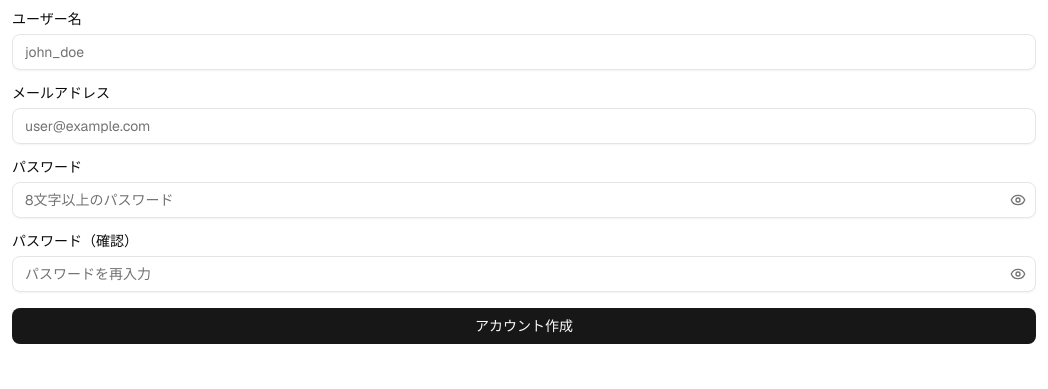
Test case: SignupForm › ユーザー名のバリデーション › ユーザー名が3文字未満の場合、エラーが表示される
Type "ab" into the field labelled "ユーザー名".
click(524, 52); type("ab")  # box top-left (12, 34), bottom-right (1036, 70)
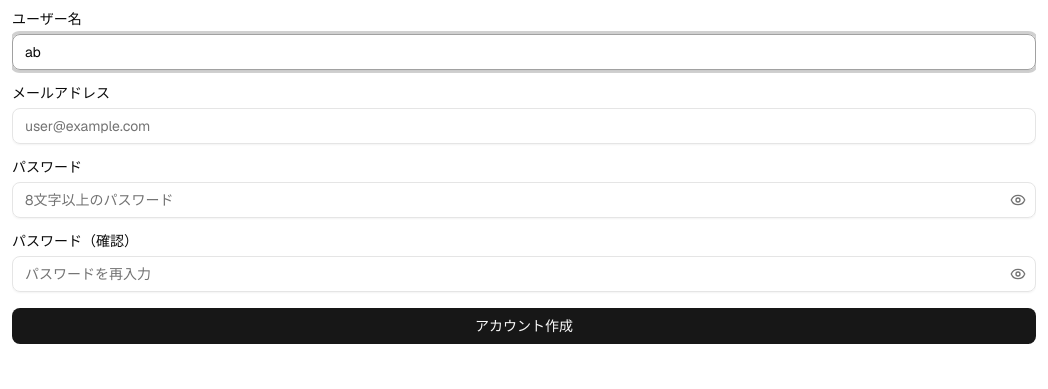
Type "test@example.com" into the field labelled "メールアドレス".
click(524, 126); type("test@example.com")  # box top-left (12, 108), bottom-right (1036, 144)
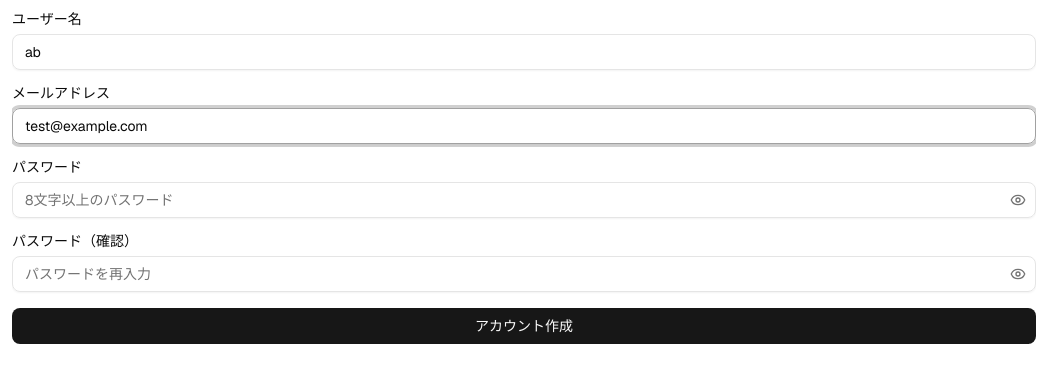
Type "password123" into the password field labelled "パスワード".
click(524, 200); type("password123")  # box top-left (12, 182), bottom-right (1036, 218)
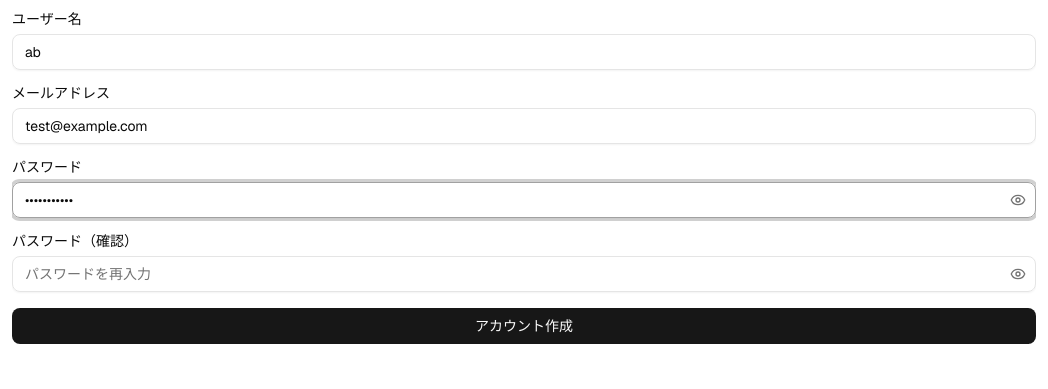
Type "password123" into the password field labelled "パスワード（確認）".
click(524, 274); type("password123")  # box top-left (12, 256), bottom-right (1036, 292)
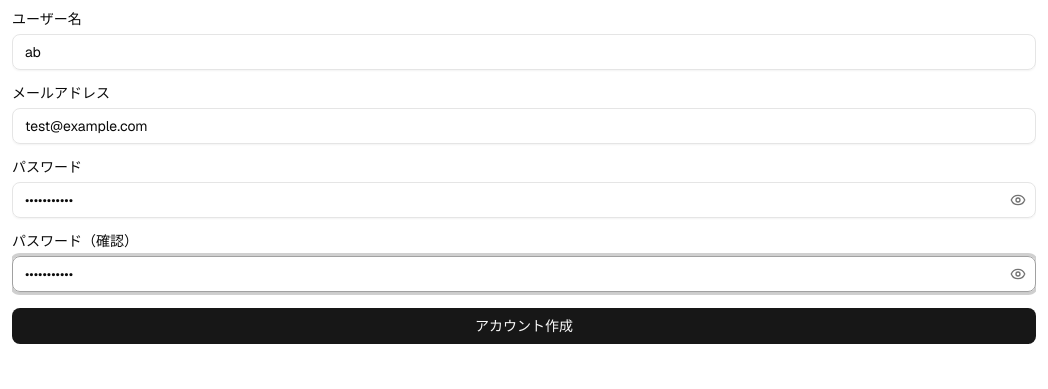
Click the button "アカウント作成".
click(524, 326)  # box top-left (12, 308), bottom-right (1036, 344)
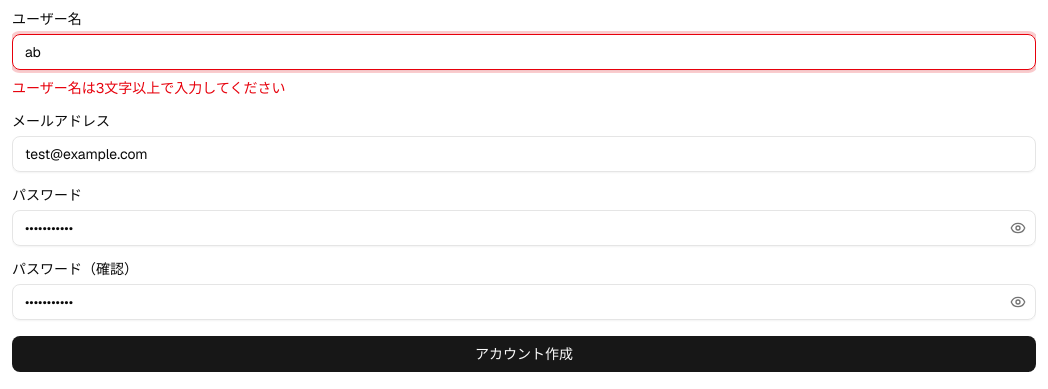
Result: the text "ユーザー名は3文字以上で入力してください" is shown at top-left (12, 79), bottom-right (286, 97)
